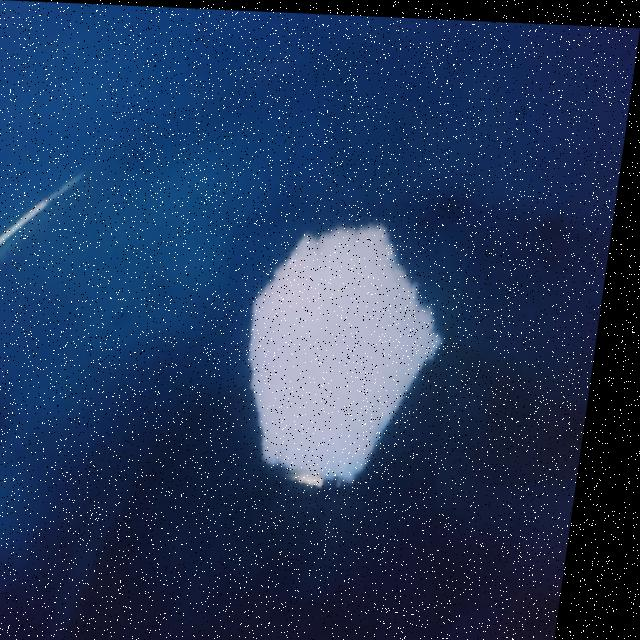litter: (212, 208, 478, 515)
